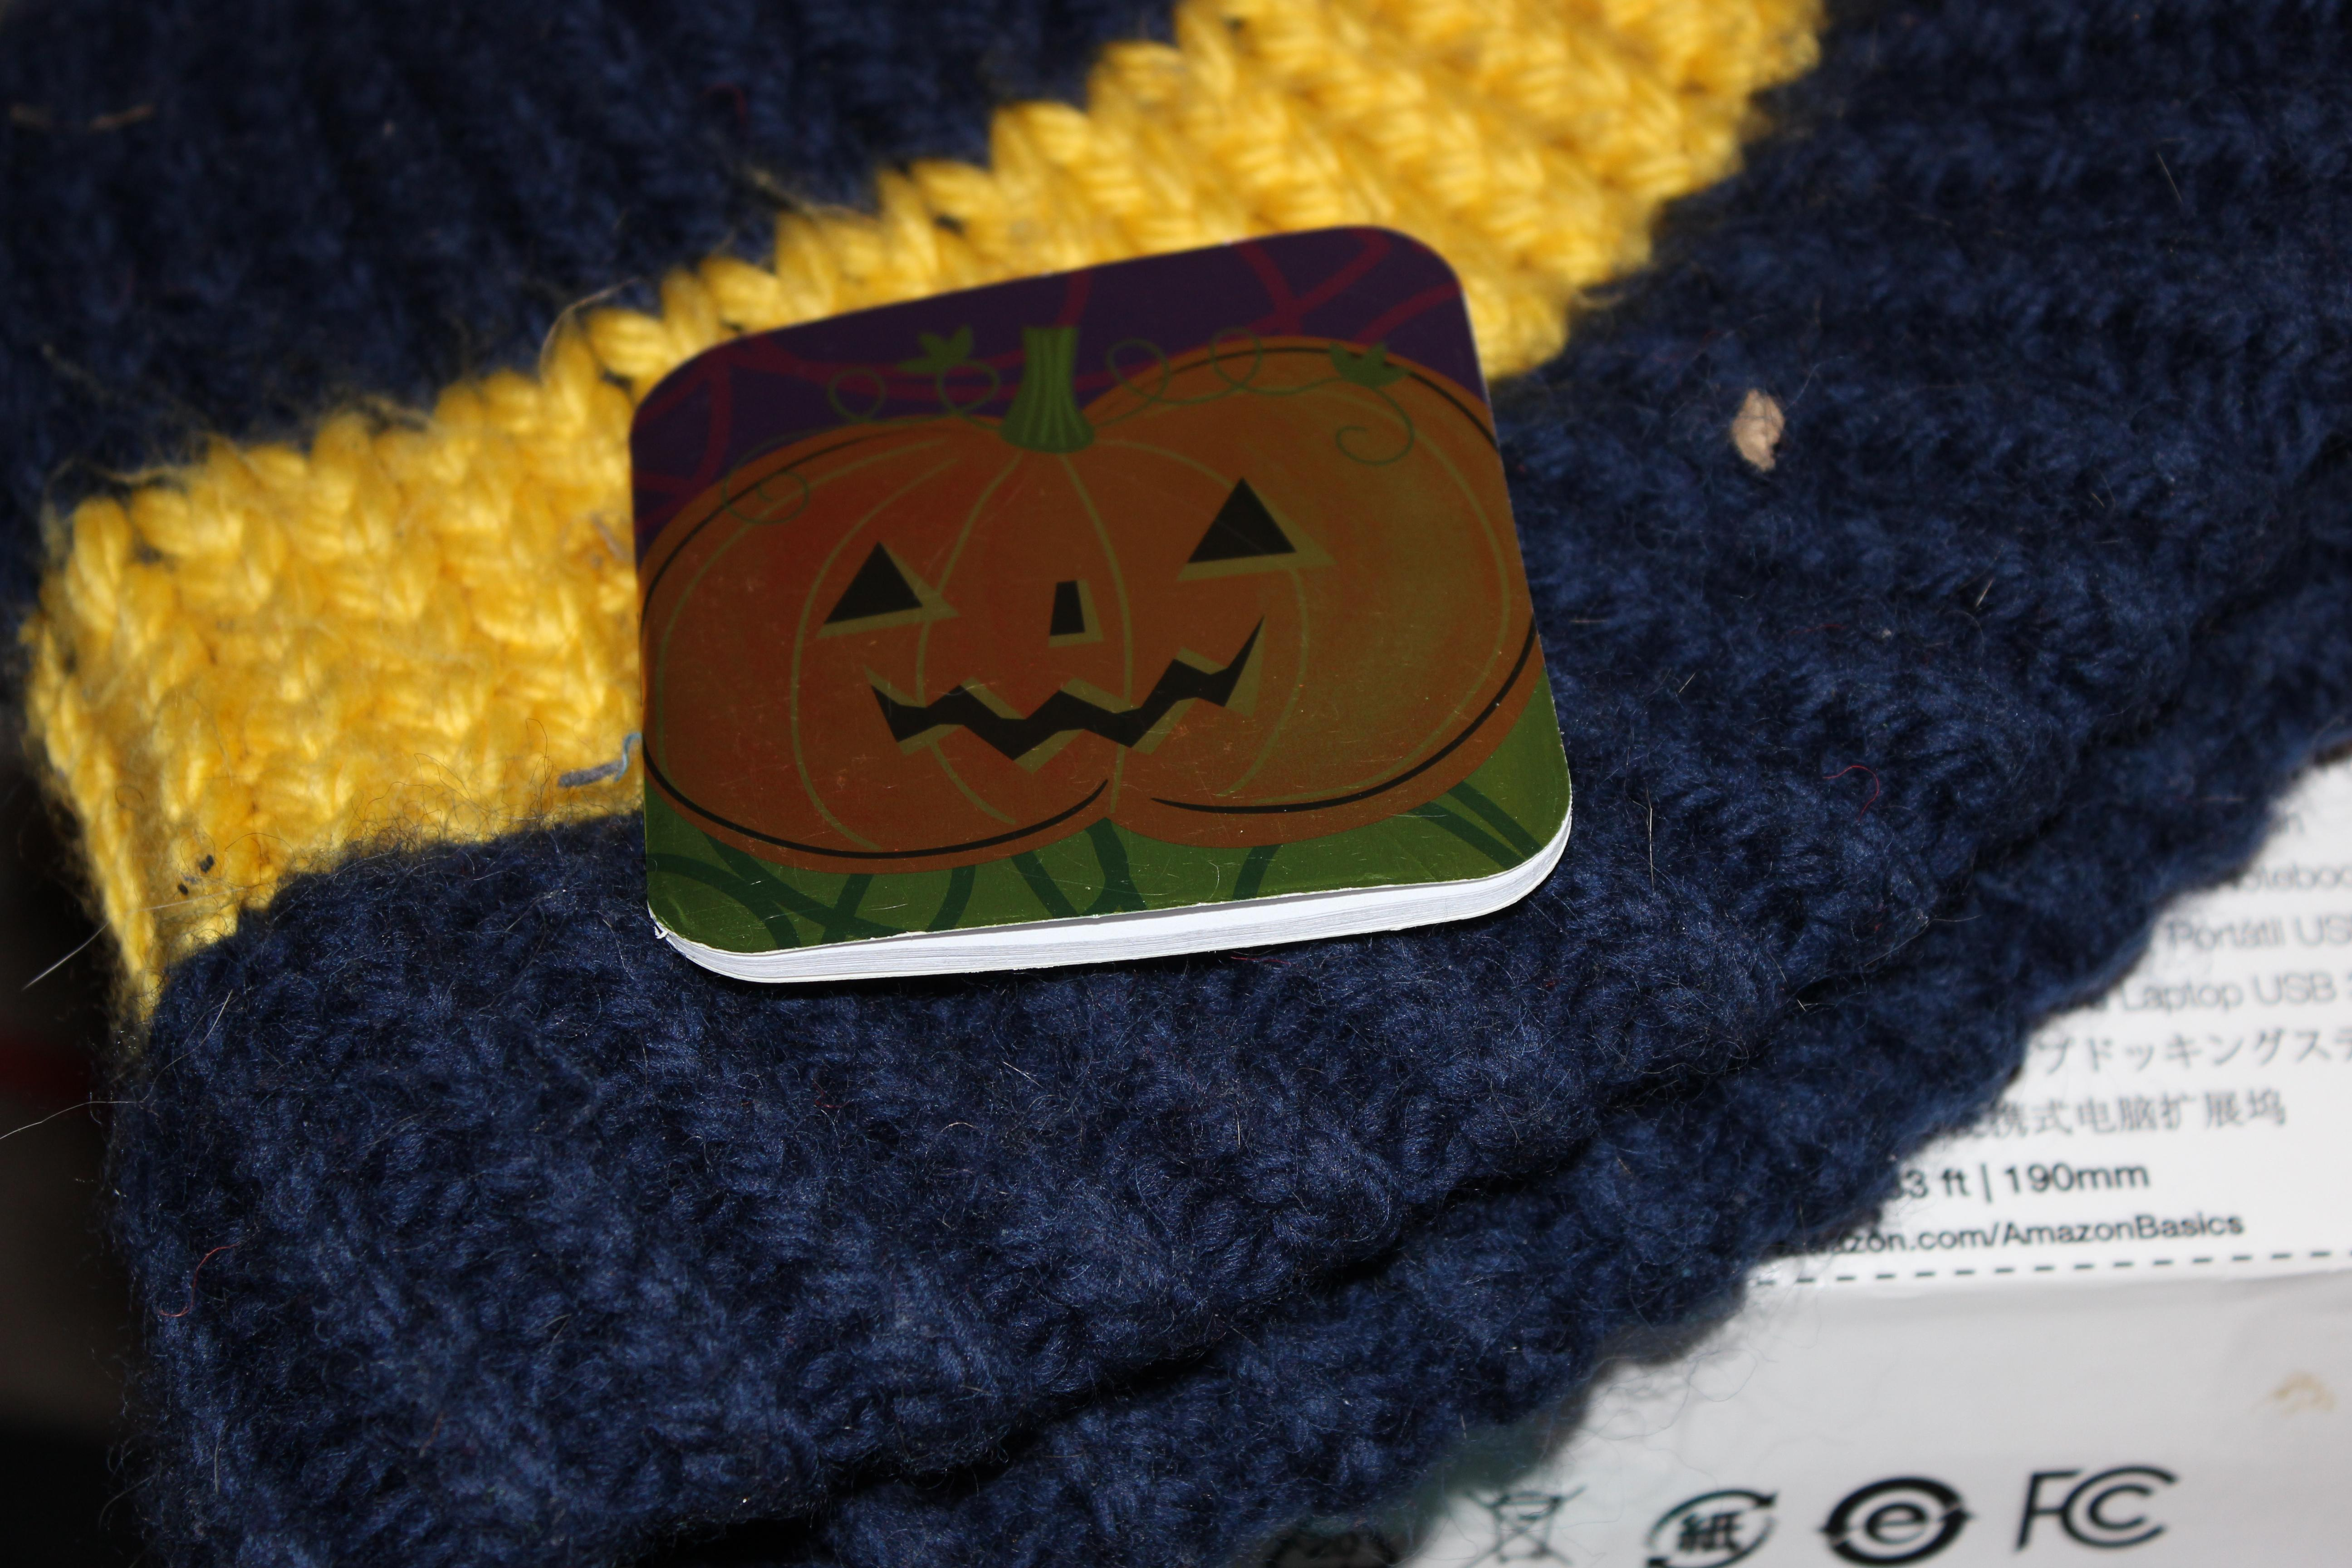pumpkinNotes: (602, 192, 1596, 1017)
